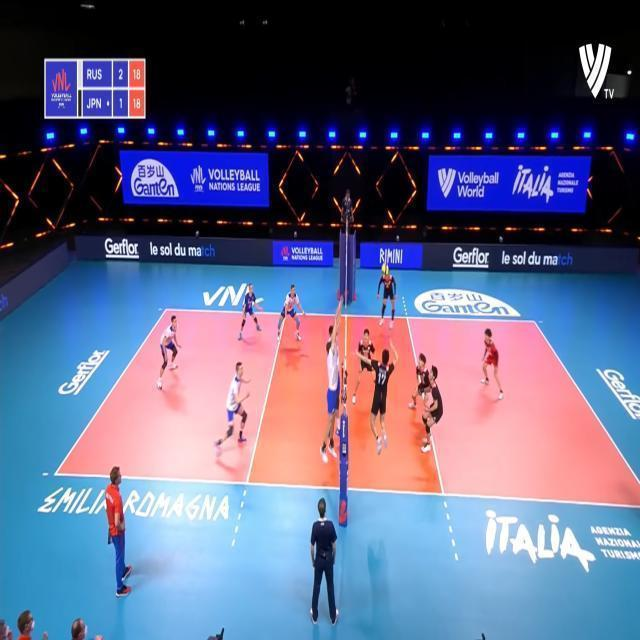volleyball: (382, 264, 389, 276)
